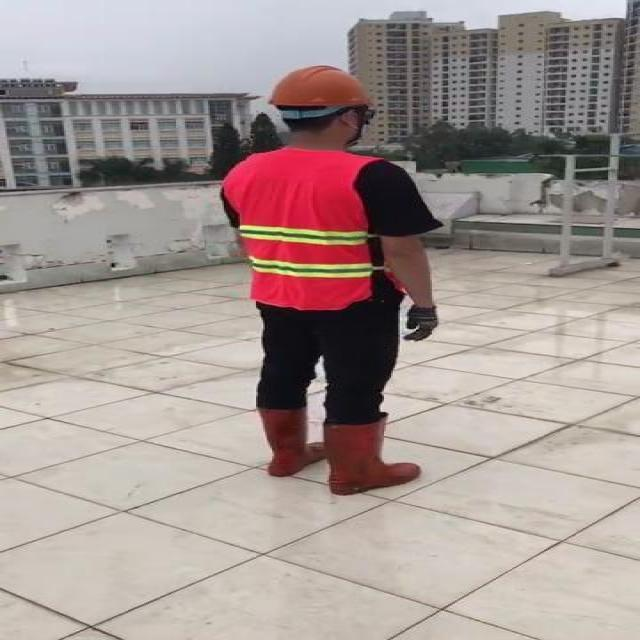boots: (324, 421, 419, 494), (258, 406, 326, 480)
gloves: (405, 304, 443, 343)
helmet: (268, 62, 372, 110)
vest: (224, 147, 372, 312)
